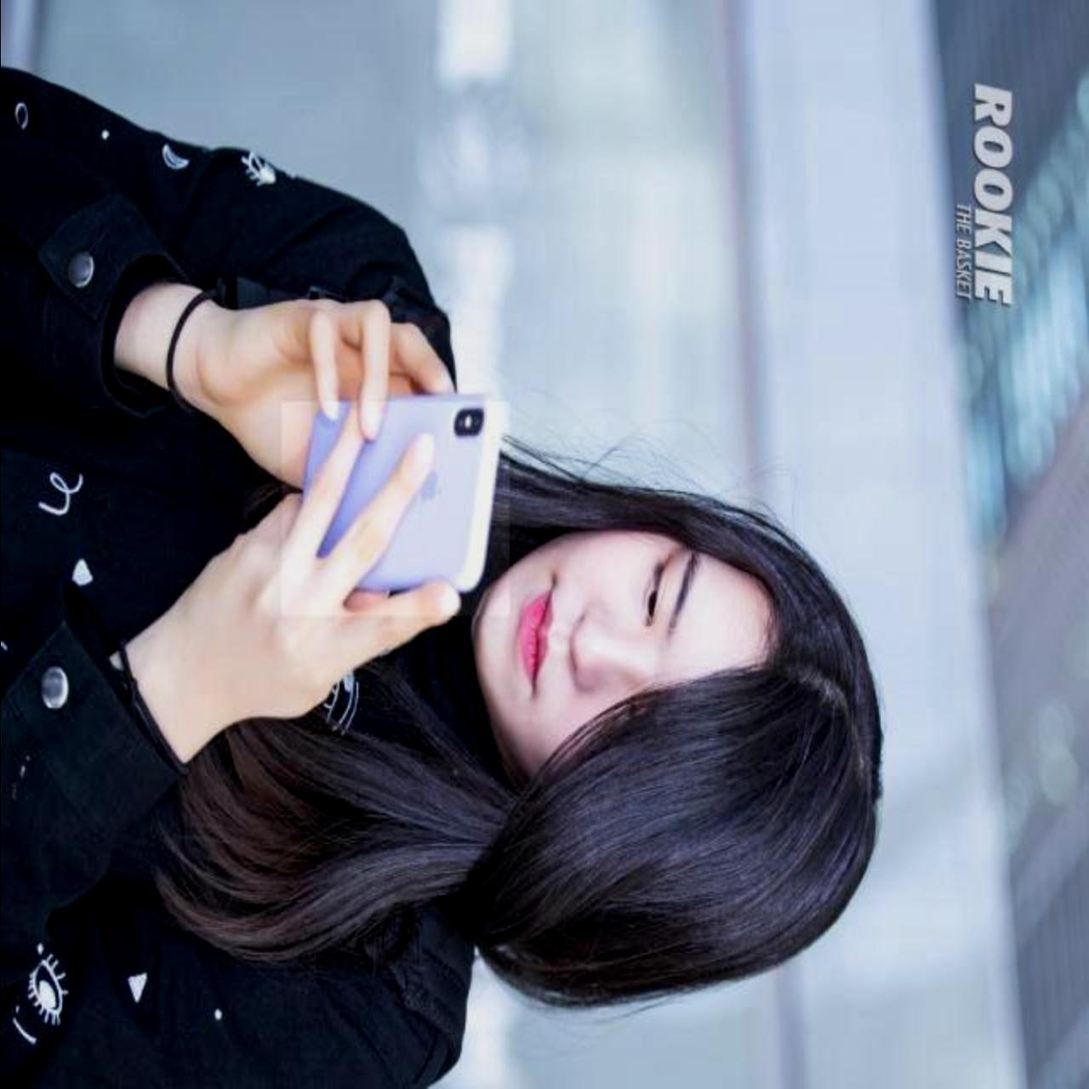phone: (298, 402, 507, 597)
